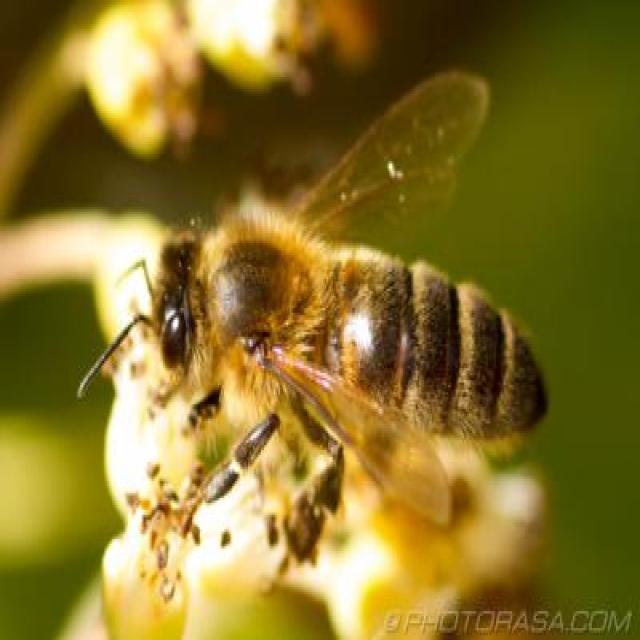antennae: (74, 310, 155, 406), (111, 256, 160, 302)
body: (152, 222, 553, 448)
insect: (69, 70, 554, 588)
legs: (272, 402, 346, 582), (198, 412, 285, 509), (182, 382, 225, 440)
wings: (264, 344, 456, 532), (288, 76, 493, 247)
